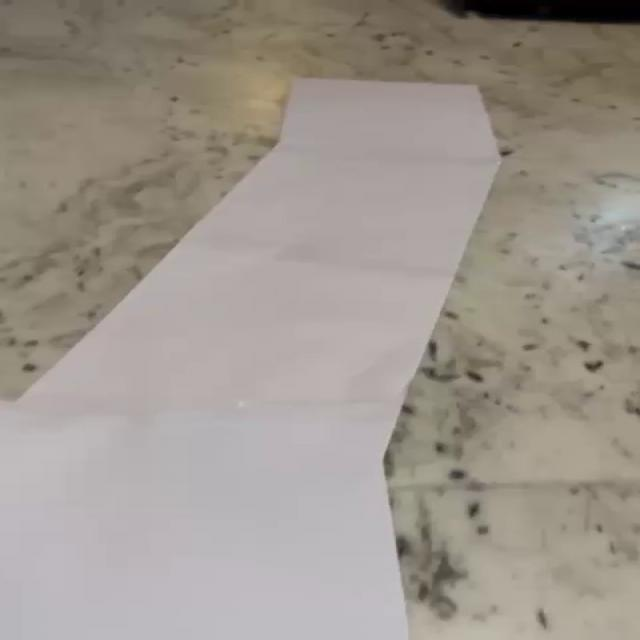road: (1, 78, 500, 640)
